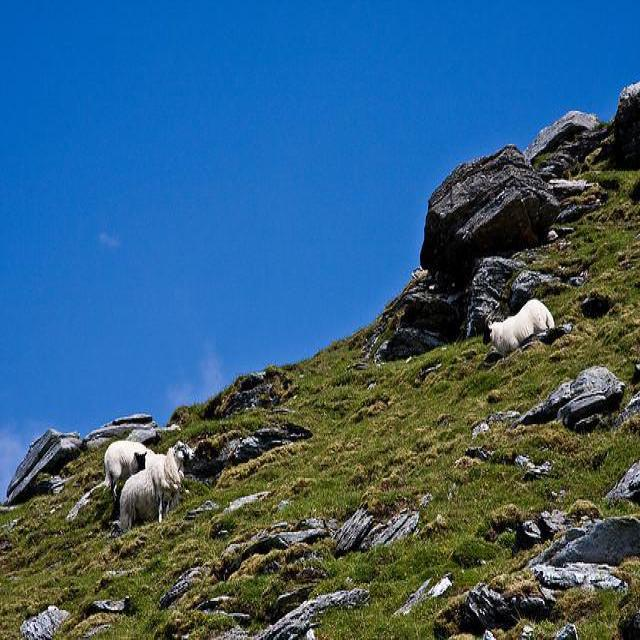Sheep: (120, 439, 196, 532), (482, 298, 556, 358), (105, 440, 149, 500)
